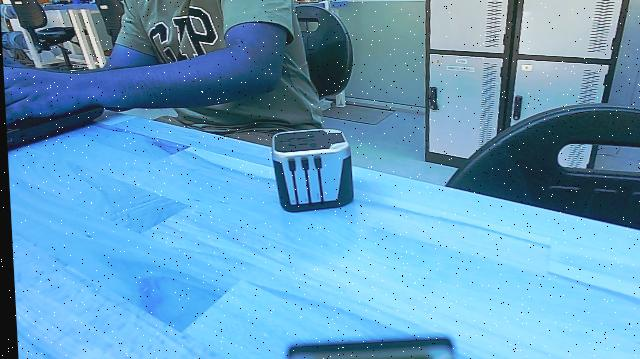adapter: (262, 124, 354, 214)
